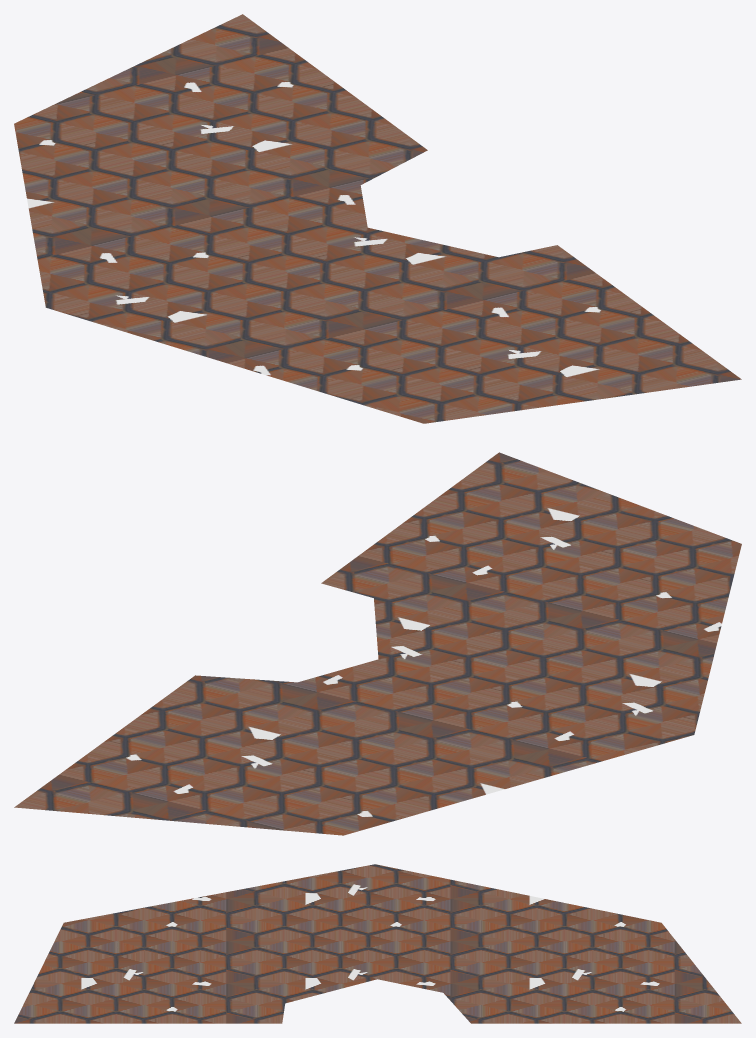
Rendered from huoshan_wujian03a.fbx.
3 renders of one model, top to bottom at view 1: azimuth 30°, elevation 25°; view 2: azimuth 150°, elevation 25°; view 3: azimuth 270°, elevation 25°, orthographic. The views are drawn at different scales.
Parts seen in each view (by area): view 1: huoshan_wujian03a; view 2: huoshan_wujian03a; view 3: huoshan_wujian03a.
Part boxes in pixels (left/top/right/bottom): huoshan_wujian03a: left=14, top=14, right=741, bottom=423; huoshan_wujian03a: left=14, top=452, right=741, bottom=835; huoshan_wujian03a: left=14, top=864, right=741, bottom=1023.
Size of the model in its own units: 1.07 by 9.06e-08 by 2.07.
